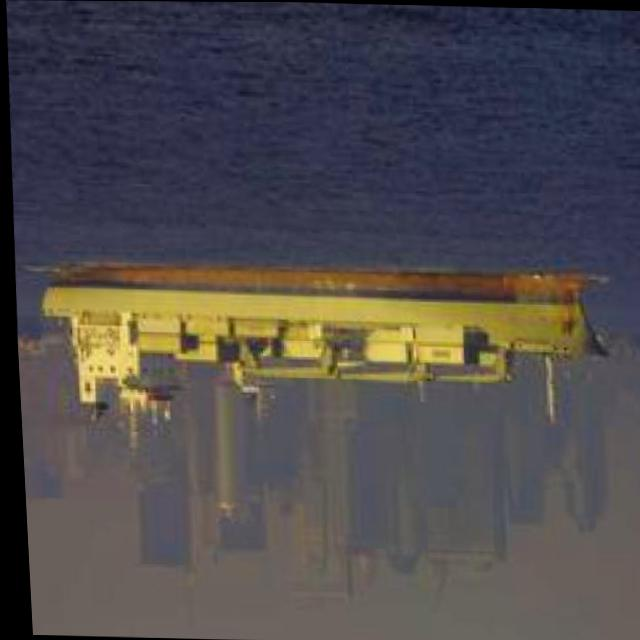ship2: (37, 270, 609, 453)
